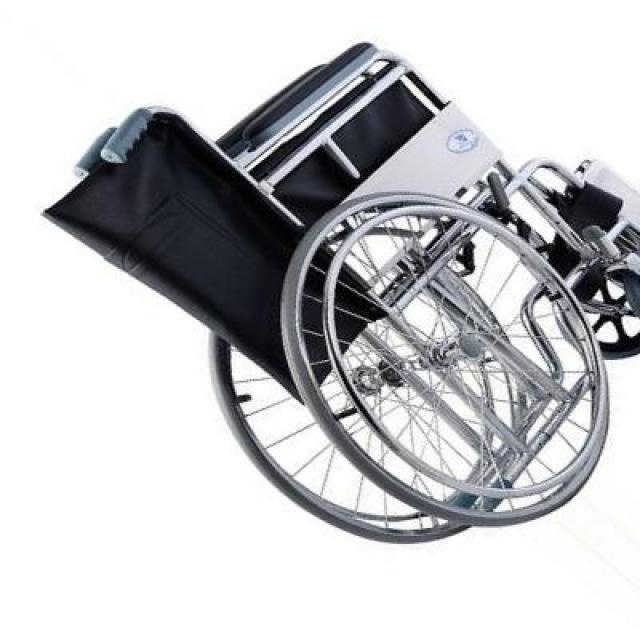wheelchair: (38, 26, 640, 556)
